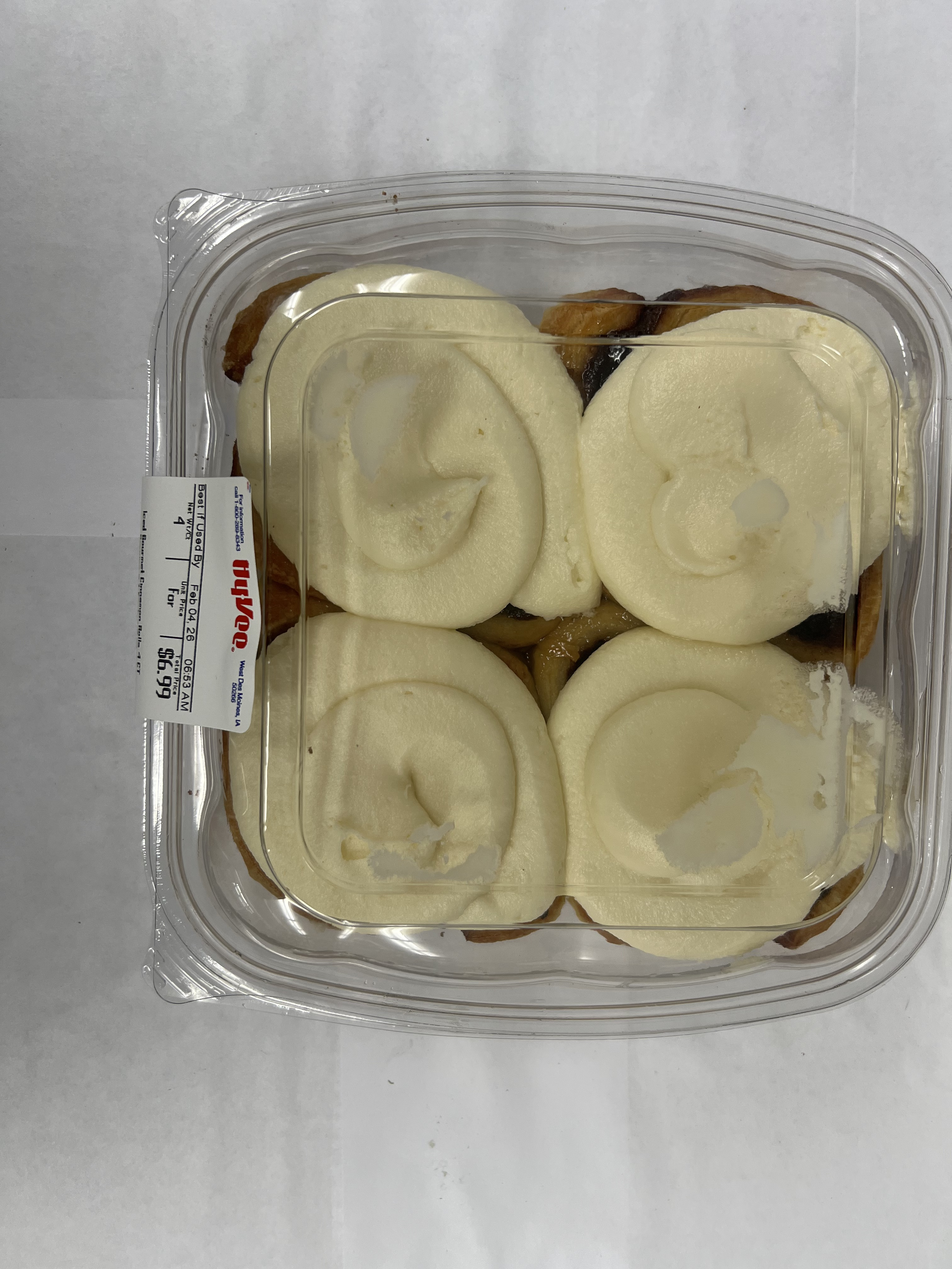bakery: (132, 168, 952, 1048)
